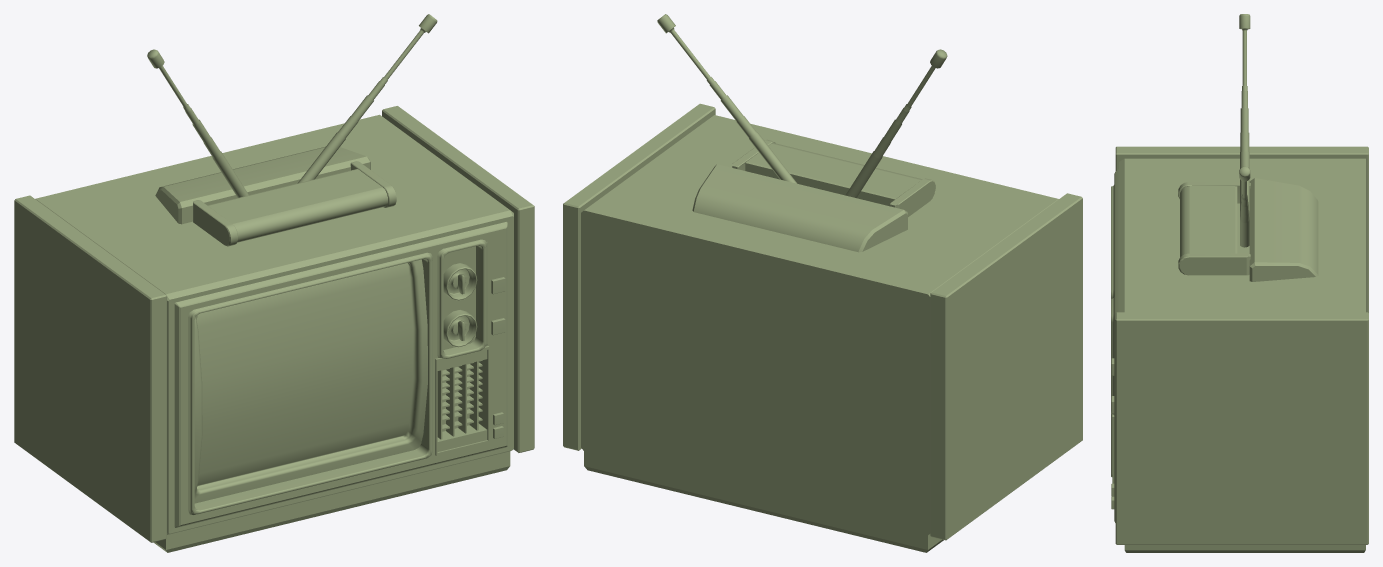
File: CRT_TV.fbx
3 views of the same model, side by side, from view 1: azimuth 30°, elevation 25°; view 2: azimuth 150°, elevation 25°; view 3: azimuth 270°, elevation 25° (orthographic). The views are drawn at different scales.
Visible parts, largest first — view 1: polySurface111; view 2: polySurface111; view 3: polySurface111.
Part boxes in pixels (x1=…): polySurface111: x1=14, y1=14, x2=534, y2=552; polySurface111: x1=563, y1=14, x2=1082, y2=552; polySurface111: x1=1111, y1=14, x2=1368, y2=552.
Size of the model in its own units: 0.5886 by 0.6488 by 0.37.
